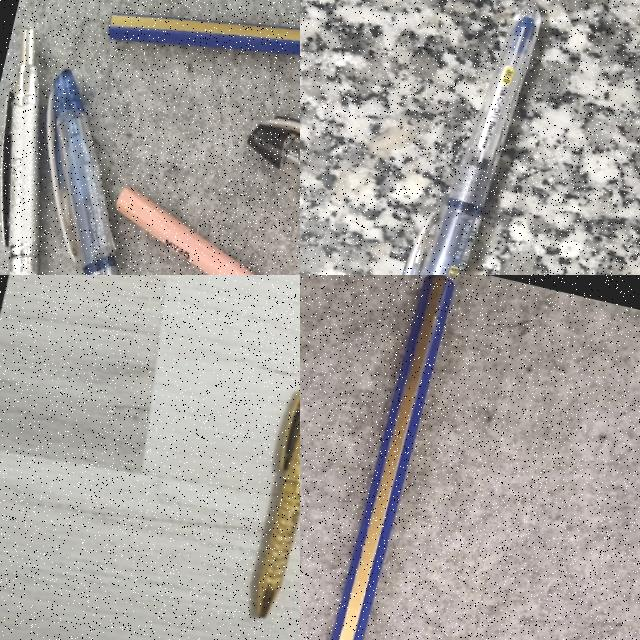pen: (402, 4, 539, 274), (48, 69, 118, 275)
pencil: (331, 275, 453, 639), (111, 0, 300, 140), (117, 187, 256, 275)
signature pen: (0, 27, 43, 275), (258, 392, 300, 615)
